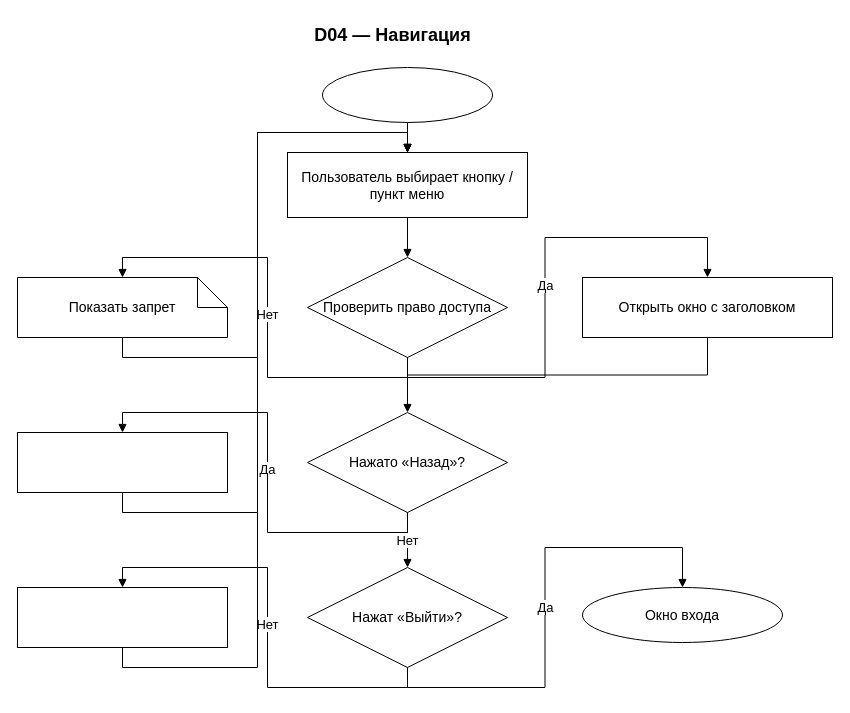
Some shapes in this 850 by 713 pixel diagram are drawn without their labels. The shapes that lost their labels are listed below. From the top down, each one's centre as x and y in pixels, then its label:
At (407,94): "Начало: каталог".
At (122,462): "Вернуться".
At (122,617): "Продолжить работу".
